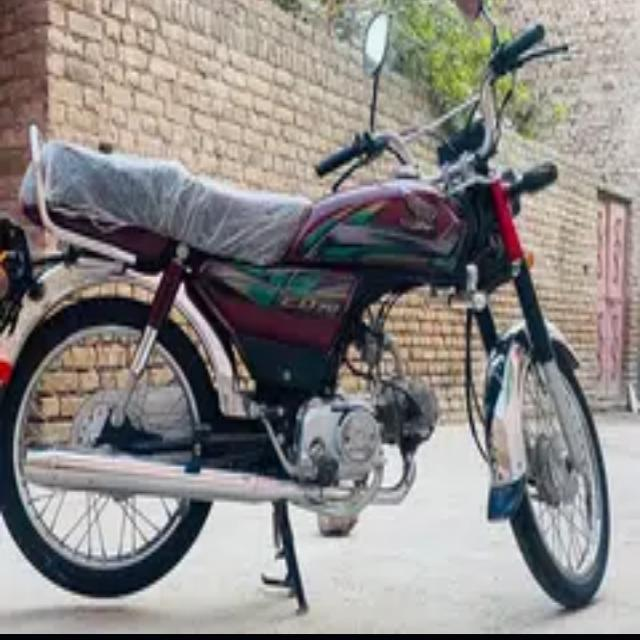Bike: (4, 33, 639, 640)
